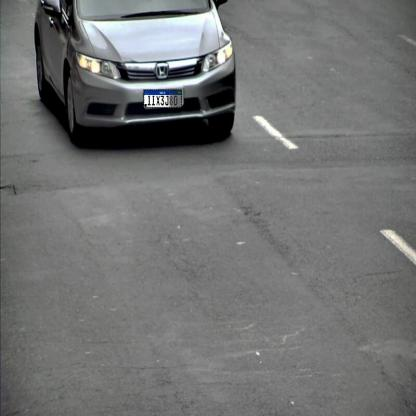PlacaM: (144, 90, 182, 108)
